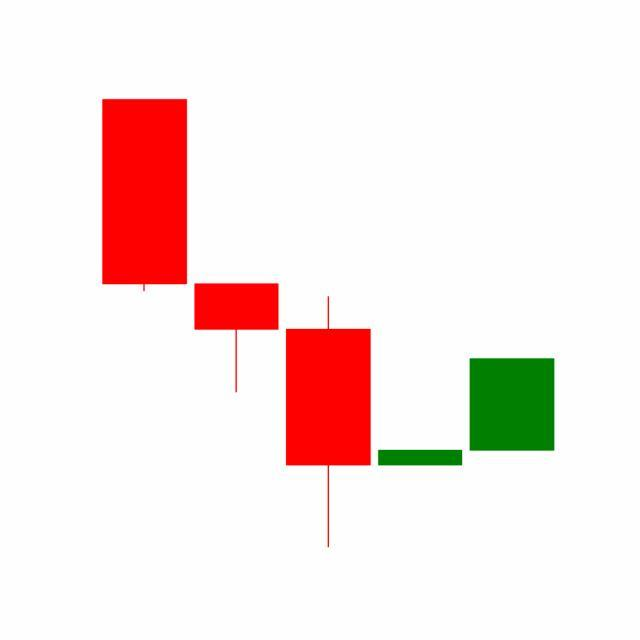Marubozu: (466, 358, 559, 452)
